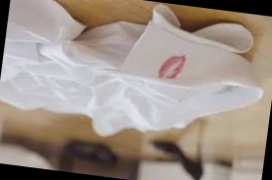lipstick: (153, 50, 189, 85)
